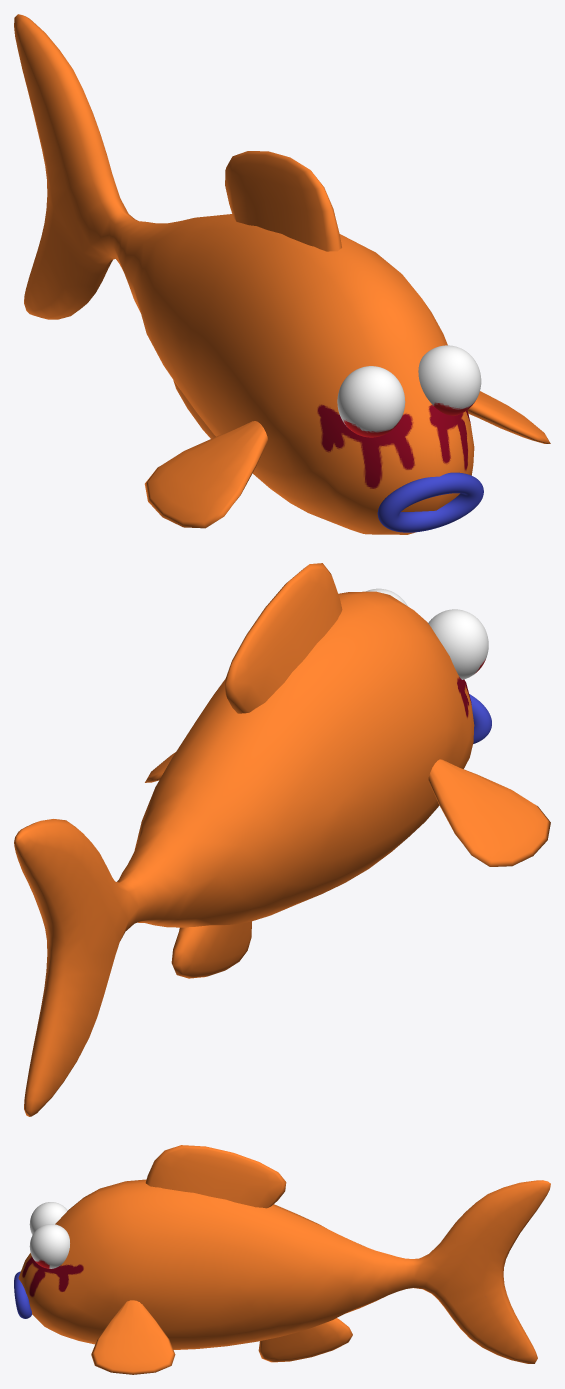
The model's file is fish.glb.
The picture shows the model from 3 angles, top to bottom: view 1: azimuth 30°, elevation 25°; view 2: azimuth 150°, elevation 25°; view 3: azimuth 270°, elevation 25°; orthographic projection. The views are drawn at different scales.
Parts seen in each view (by area): view 1: mesh_id47, mesh_id65, mesh_id55, mesh_id49; view 2: mesh_id47, mesh_id55, mesh_id65; view 3: mesh_id47, mesh_id49, mesh_id55, mesh_id65.
Boxes of the visible parts, x1=… form: mesh_id47: x1=14, y1=14, x2=550, y2=534; mesh_id65: x1=377, y1=472, x2=483, y2=532; mesh_id55: x1=337, y1=366, x2=405, y2=437; mesh_id49: x1=418, y1=345, x2=481, y2=415; mesh_id47: x1=14, y1=563, x2=550, y2=1116; mesh_id55: x1=428, y1=609, x2=488, y2=679; mesh_id65: x1=469, y1=694, x2=491, y2=743; mesh_id47: x1=18, y1=1145, x2=550, y2=1374; mesh_id49: x1=29, y1=1224, x2=69, y2=1268; mesh_id55: x1=29, y1=1202, x2=67, y2=1234; mesh_id65: x1=14, y1=1271, x2=31, y2=1318.
Size of the model in its own units: 0.1766 by 0.1584 by 0.3518.
4 materials, 4 textured.
